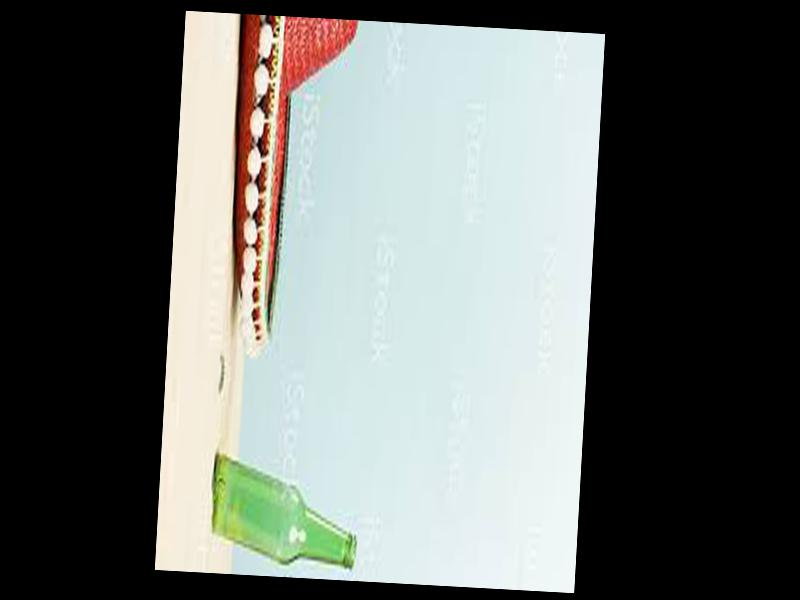Beer: (205, 450, 362, 566)
